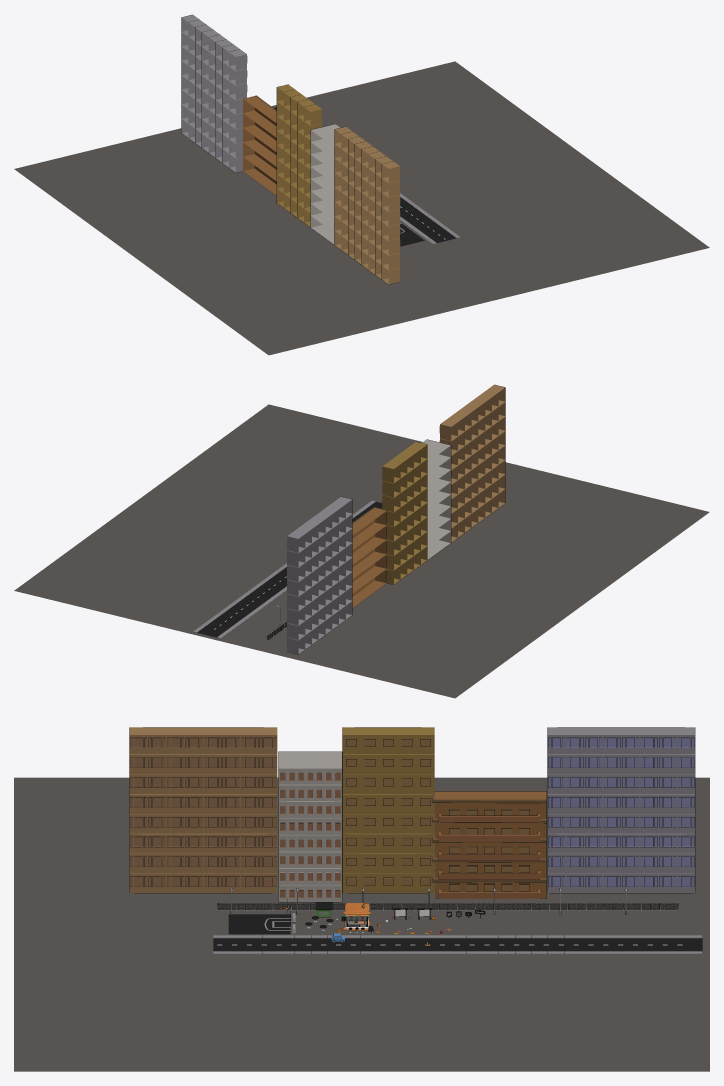
Rendered from Chad_Cafe.glb.
3 renders of one model, top to bottom at view 1: azimuth 30°, elevation 25°; view 2: azimuth 150°, elevation 25°; view 3: azimuth 270°, elevation 25°, orthographic. The views are drawn at different scales.
Parts seen in each view (by area): view 1: Headlight; view 2: Headlight; view 3: Headlight, Chad_Cafe.
Boxes of the visible parts, left/top/right/bottom form: Headlight: left=14, top=14, right=709, bottom=355; Headlight: left=14, top=384, right=709, bottom=698; Headlight: left=14, top=727, right=709, bottom=1071; Chad_Cafe: left=337, top=902, right=373, bottom=933.
Bounding box in the file's own units: 128 × 32.37 × 128.
106 materials, 6 textured.
